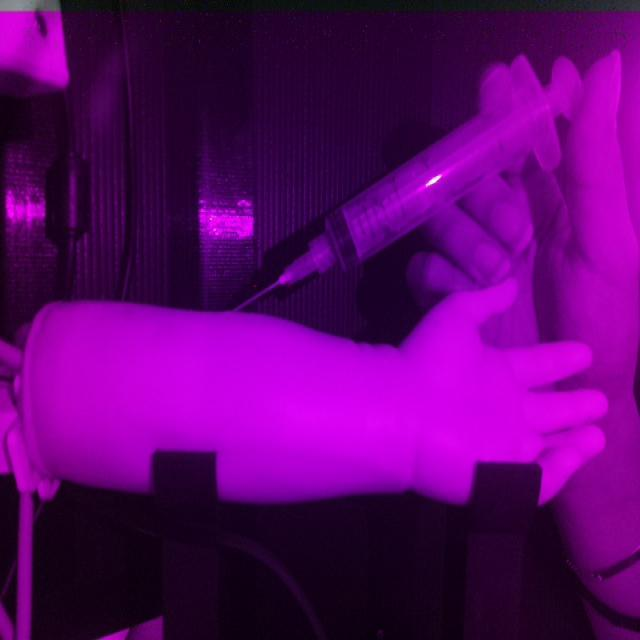Outside: (229, 52, 584, 313)
